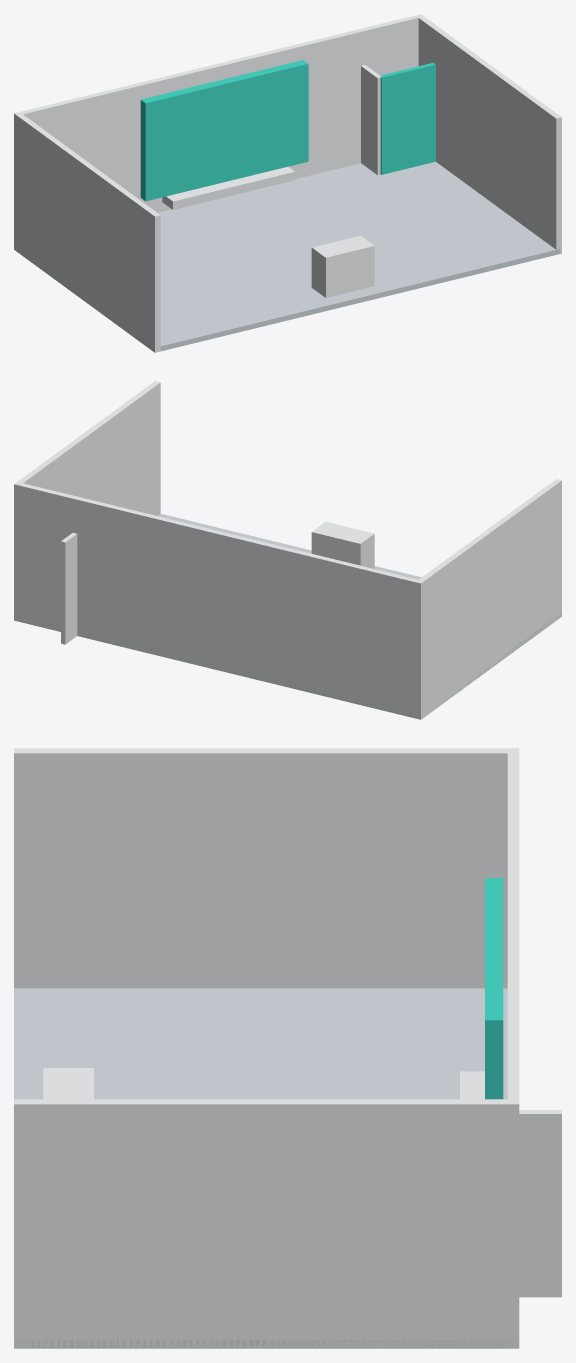
The picture shows the model from 3 angles, top to bottom: view 1: azimuth 30°, elevation 25°; view 2: azimuth 150°, elevation 25°; view 3: azimuth 270°, elevation 25°; orthographic projection. The views are drawn at different scales.
Parts seen in each view (by area): view 1: Exhibition Booth Concept; view 2: Exhibition Booth Concept; view 3: Exhibition Booth Concept.
Boxes of the visible parts, bbox=[...] form: Exhibition Booth Concept: bbox=[14, 14, 561, 352]; Exhibition Booth Concept: bbox=[14, 381, 561, 719]; Exhibition Booth Concept: bbox=[14, 748, 561, 1348].
Size of the model in its own units: 10 by 3.2 by 6.51.
